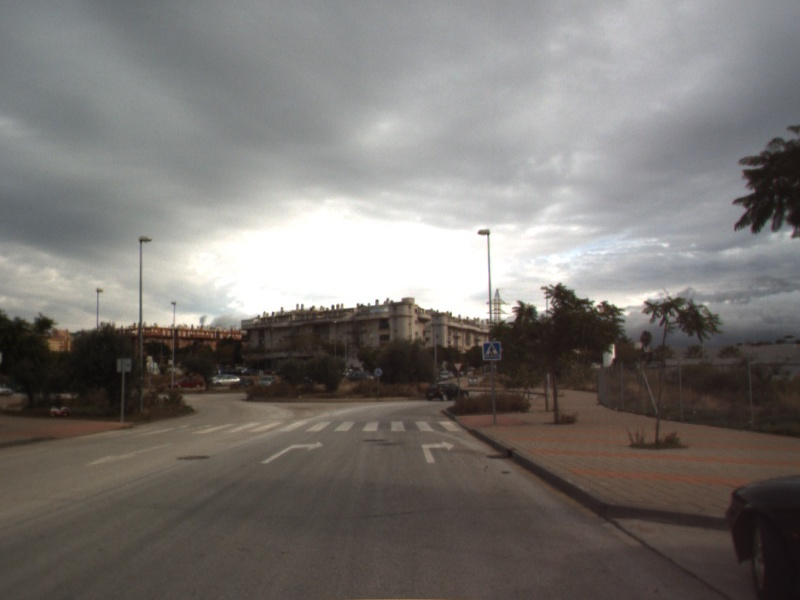RIGHT: (258, 439, 326, 465), (419, 438, 456, 465)
